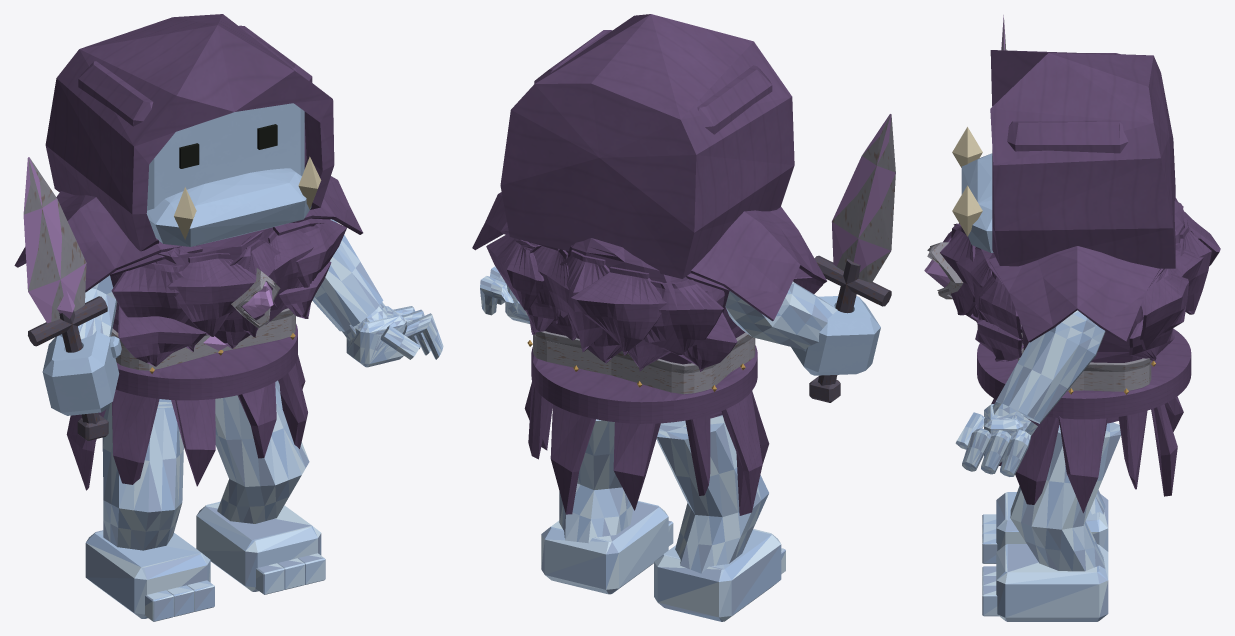
Rendered from host_33.glb.
3 views of the same model, side by side, from view 1: azimuth 30°, elevation 25°; view 2: azimuth 150°, elevation 25°; view 3: azimuth 270°, elevation 25° (orthographic). The views are drawn at different scales.
Visible parts, largest first — view 1: Pointed brown hood - hollow outer cloth, One continuous source skull, RIGHT source short joined leg, LEFT source short joined leg, Source fitted ragged hem, RIGHT source translucent silver violet crystalline blade, LEFT source planted boot, RIGHT source planted boot, RIGHT real compact source grasp source compact planar grasp, Source full sloping layered shoulder mantle 1, LEFT source open angular palm, Source descending angular cloak lock front 0 3 (+30 smaller); view 2: Pointed brown hood - hollow outer cloth, RIGHT source short joined leg, Source fitted ragged hem, Source full sloping layered shoulder mantle 1, LEFT source planted boot, RIGHT source planted boot, RIGHT source translucent silver violet crystalline blade, Source broad actual silver spectral waist band, LEFT source short joined leg, Source descending angular cloak lock back 0 3, RIGHT real compact source grasp source compact planar grasp, RIGHT full actual connected arm (+20 smaller); view 3: Pointed brown hood - hollow outer cloth, Source full sloping layered shoulder mantle -1, LEFT source short joined leg, LEFT source planted boot, LEFT full actual connected arm, Source fitted ragged hem, LEFT source open angular palm, Source long split violet spectral skirt 5, Source descending angular cloak lock back 0 0, Source long split violet spectral skirt 6, Source broad actual silver spectral waist band, One continuous source skull (+17 smaller).
Part boxes in pixels (left/top/right/bottom): Pointed brown hood - hollow outer cloth: left=45, top=14, right=334, bottom=251; One continuous source skull: left=146, top=103, right=311, bottom=246; RIGHT source short joined leg: left=102, top=399, right=183, bottom=550; LEFT source short joined leg: left=215, top=380, right=309, bottom=523; Source fitted ragged hem: left=116, top=324, right=297, bottom=400; RIGHT source translucent silver violet crystalline blade: left=23, top=157, right=86, bottom=323; LEFT source planted boot: left=196, top=501, right=321, bottom=591; RIGHT source planted boot: left=85, top=530, right=210, bottom=618; RIGHT real compact source grasp source compact planar grasp: left=42, top=331, right=121, bottom=415; Source full sloping layered shoulder mantle 1: left=14, top=191, right=181, bottom=292; LEFT source open angular palm: left=341, top=302, right=443, bottom=367; Source descending angular cloak lock front 0 3: left=167, top=253, right=256, bottom=336; Pointed brown hood - hollow outer cloth: left=500, top=14, right=794, bottom=278; RIGHT source short joined leg: left=656, top=415, right=768, bottom=573; Source fitted ragged hem: left=531, top=345, right=757, bottom=423; Source full sloping layered shoulder mantle 1: left=691, top=207, right=826, bottom=321; LEFT source planted boot: left=541, top=501, right=668, bottom=594; RIGHT source planted boot: left=654, top=529, right=781, bottom=621; RIGHT source translucent silver violet crystalline blade: left=832, top=114, right=895, bottom=282; Source broad actual silver spectral waist band: left=533, top=331, right=755, bottom=394; LEFT source short joined leg: left=559, top=419, right=633, bottom=543; Source descending angular cloak lock back 0 3: left=571, top=266, right=667, bottom=355; RIGHT real compact source grasp source compact planar grasp: left=791, top=296, right=880, bottom=375; RIGHT full actual connected arm: left=725, top=281, right=837, bottom=349; Pointed brown hood - hollow outer cloth: left=990, top=50, right=1175, bottom=268; Source full sloping layered shoulder mantle -1: left=988, top=246, right=1160, bottom=342; LEFT source short joined leg: left=1010, top=422, right=1120, bottom=571; LEFT source planted boot: left=996, top=544, right=1108, bottom=621; LEFT full actual connected arm: left=996, top=310, right=1105, bottom=423; Source fitted ragged hem: left=977, top=328, right=1191, bottom=423; LEFT source open angular palm: left=955, top=402, right=1037, bottom=476; Source long split violet spectral skirt 5: left=1058, top=391, right=1110, bottom=513; Source descending angular cloak lock back 0 0: left=1140, top=268, right=1188, bottom=349; Source long split violet spectral skirt 6: left=1015, top=416, right=1059, bottom=504; Source broad actual silver spectral waist band: left=1017, top=325, right=1151, bottom=391; One continuous source skull: left=961, top=153, right=993, bottom=252.
Bounding box in the file's own units: 1.29 × 1.7 × 0.855.
Materials: 14 (6 with a texture image).
